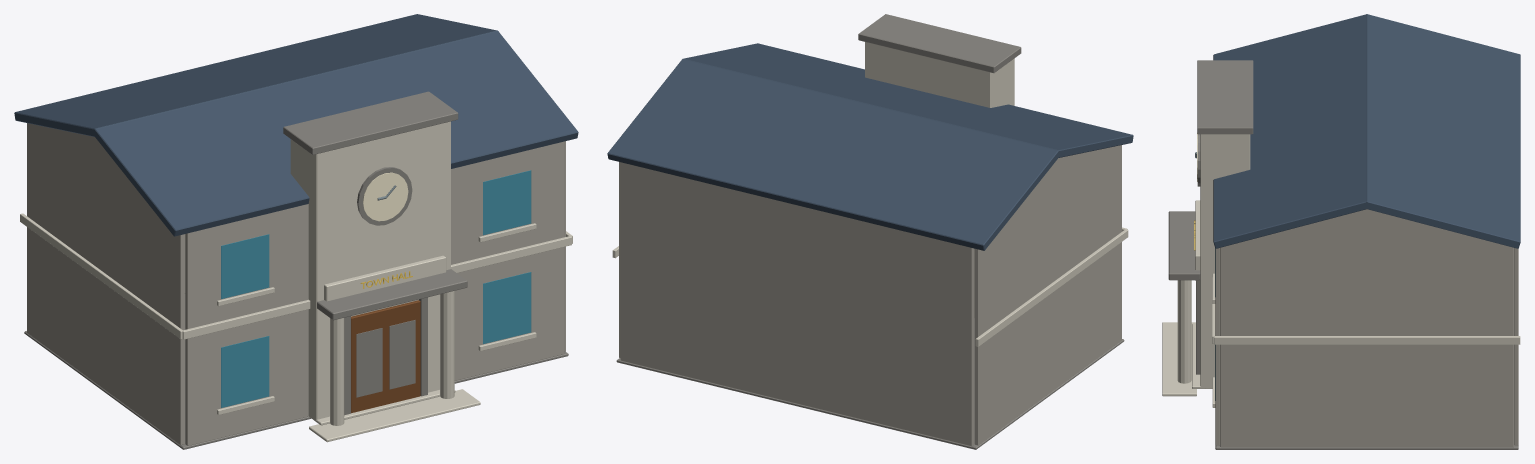
File: FTF_Building_StoneTownHall_TwoStorey_14x10m.glb
3 views of the same model, side by side, from view 1: azimuth 30°, elevation 25°; view 2: azimuth 150°, elevation 25°; view 3: azimuth 270°, elevation 25° (orthographic). The views are drawn at different scales.
Visible parts, largest first — view 1: FTF_Building_StoneTownHall_TwoStorey_14x10m_Mesh; view 2: FTF_Building_StoneTownHall_TwoStorey_14x10m_Mesh; view 3: FTF_Building_StoneTownHall_TwoStorey_14x10m_Mesh.
Part boxes in pixels (bbox=[...]): FTF_Building_StoneTownHall_TwoStorey_14x10m_Mesh: bbox=[14, 14, 578, 449]; FTF_Building_StoneTownHall_TwoStorey_14x10m_Mesh: bbox=[607, 14, 1133, 449]; FTF_Building_StoneTownHall_TwoStorey_14x10m_Mesh: bbox=[1162, 14, 1520, 449].
Size of the model in its own units: 14.65 by 9.7 by 11.82.
